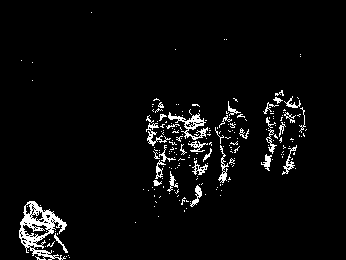person: (214, 97, 251, 190), (15, 199, 68, 260), (183, 102, 213, 208), (261, 87, 291, 172), (161, 102, 187, 196), (278, 93, 307, 173), (146, 95, 169, 190)
